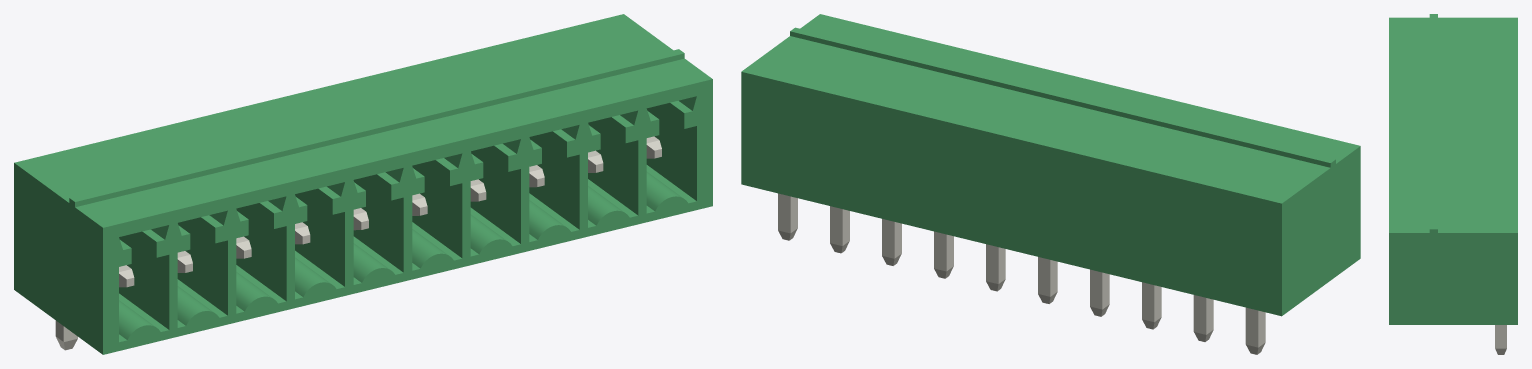
File: sfe-screw_cage_3.5mm-10.glb
The picture shows the model from 3 angles, left to right: view 1: azimuth 30°, elevation 25°; view 2: azimuth 150°, elevation 25°; view 3: azimuth 270°, elevation 25°; orthographic projection. The views are drawn at different scales.
Visible parts, largest first — view 1: 0.08333333333333333_0.4166666666666667_0.16666666666666666_0, 0.6666666666666666_0.6666666666666666_0.5833333333333334_0.8; view 2: 0.08333333333333333_0.4166666666666667_0.16666666666666666_0, 0.6666666666666666_0.6666666666666666_0.5833333333333334_0.8; view 3: 0.08333333333333333_0.4166666666666667_0.16666666666666666_0, 0.6666666666666666_0.6666666666666666_0.5833333333333334_0.8.
Boxes of the visible parts, bbox=[...] form: 0.08333333333333333_0.4166666666666667_0.16666666666666666_0: bbox=[14, 14, 712, 354]; 0.6666666666666666_0.6666666666666666_0.5833333333333334_0.8: bbox=[55, 136, 661, 350]; 0.08333333333333333_0.4166666666666667_0.16666666666666666_0: bbox=[741, 14, 1360, 316]; 0.6666666666666666_0.6666666666666666_0.5833333333333334_0.8: bbox=[778, 193, 1265, 354]; 0.08333333333333333_0.4166666666666667_0.16666666666666666_0: bbox=[1389, 14, 1517, 324]; 0.6666666666666666_0.6666666666666666_0.5833333333333334_0.8: bbox=[1495, 325, 1506, 354].
Size of the model in its own units: 3.64 by 1.09 by 0.9199.
